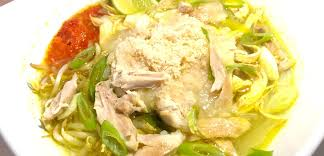soto: (25, 3, 314, 155)
